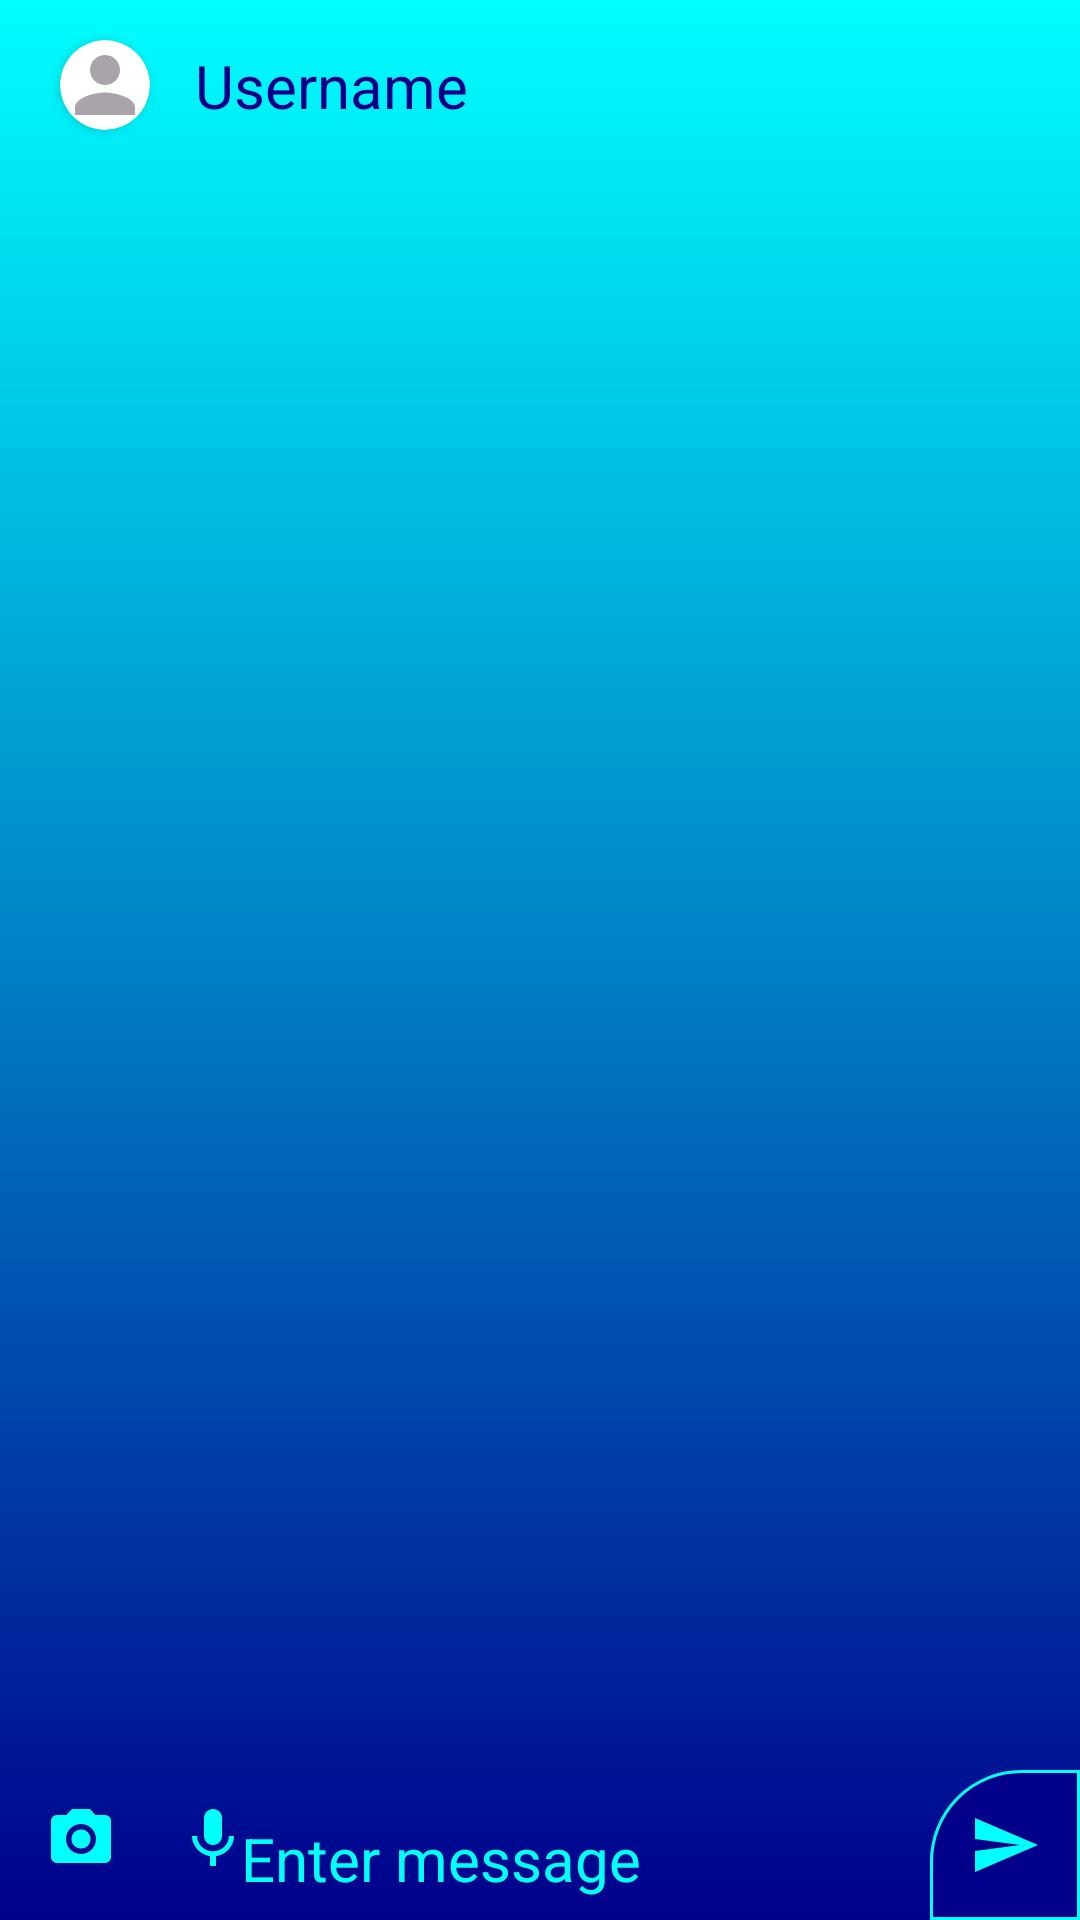

Named icons in this screenshot (1080*1920) and their bounding boxes, (x1, y1, x2, y2):
camera: (51, 1809, 111, 1863)
person: (60, 40, 150, 130)
send: (930, 1770, 1080, 1920)
